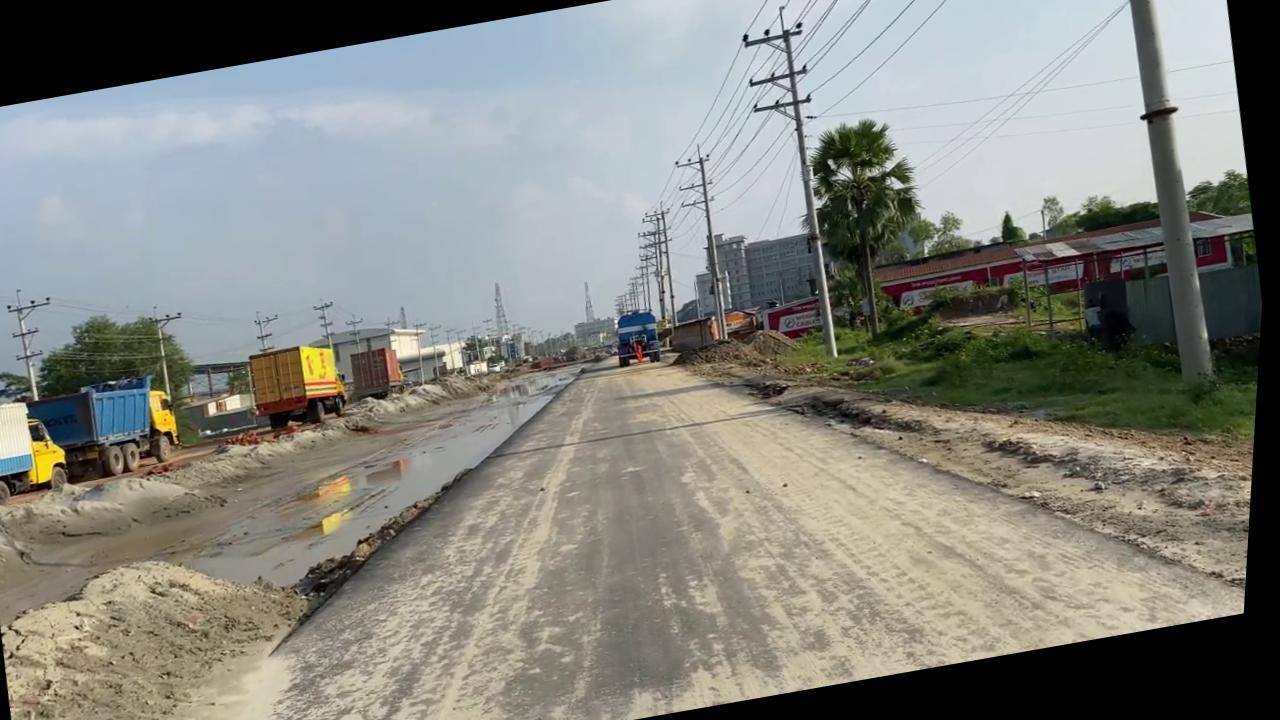Pole: (1091, 0, 1238, 390), (722, 1, 863, 366)
Sidewalk: (0, 355, 647, 720)
Traffic-sign: (779, 107, 950, 348)
Tree: (23, 367, 192, 489), (244, 336, 357, 432), (0, 389, 81, 506), (347, 343, 414, 403), (612, 304, 668, 368)
Upstairs: (1078, 252, 1268, 364)
